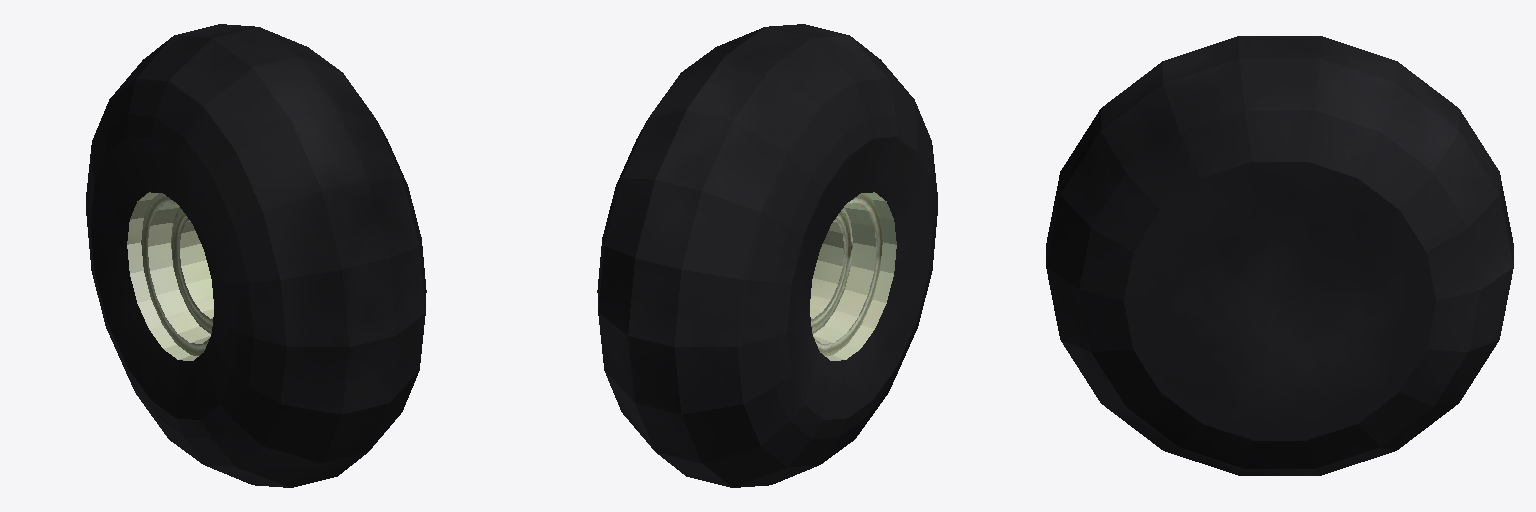
3 views of the same model, side by side, from view 1: azimuth 30°, elevation 25°; view 2: azimuth 150°, elevation 25°; view 3: azimuth 270°, elevation 25° (orthographic).
Parts seen in each view (by area): view 1: wheel; view 2: wheel; view 3: wheel.
Part boxes in pixels (left/top/right/bottom): wheel: left=86, top=24, right=426, bottom=487; wheel: left=597, top=24, right=937, bottom=487; wheel: left=1046, top=36, right=1513, bottom=475.
Size of the model in its own units: 0.2371 by 0.5118 by 0.5196.
Materials: 1 (1 with a texture image).